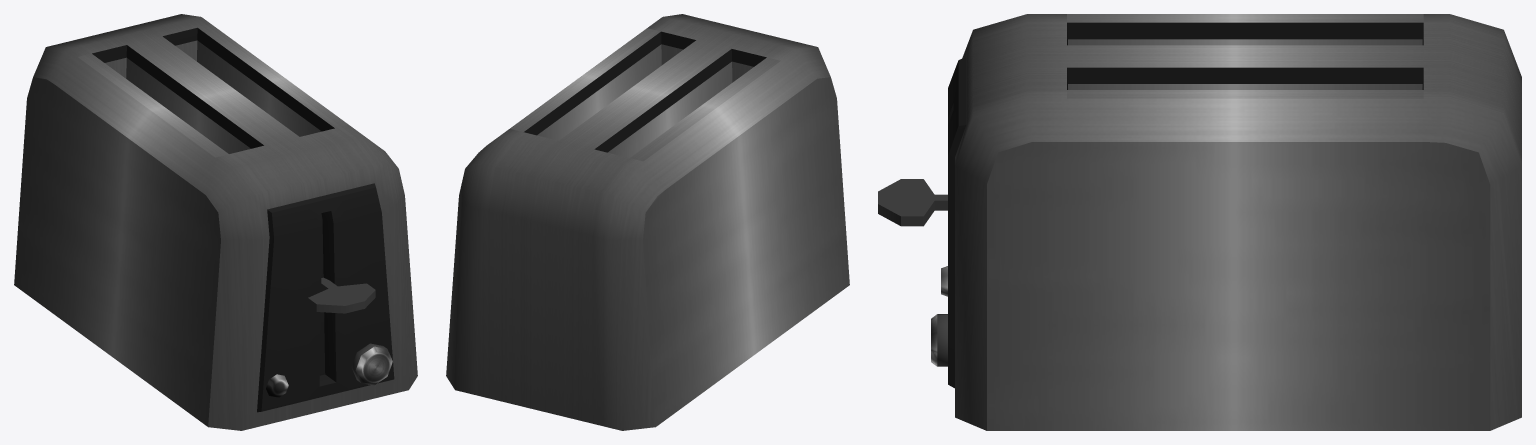
File: Toaster.FBX
3 renders of one model, left to right at view 1: azimuth 30°, elevation 25°; view 2: azimuth 150°, elevation 25°; view 3: azimuth 270°, elevation 25°, orthographic. The views are drawn at different scales.
Parts seen in each view (by area): view 1: Toaster; view 2: Toaster; view 3: Toaster.
Boxes of the visible parts, left/top/right/bottom form: Toaster: left=14, top=14, right=417, bottom=430; Toaster: left=446, top=14, right=849, bottom=430; Toaster: left=878, top=14, right=1521, bottom=430.
Bounding box in the file's own units: 41.55 × 45 × 85.19.
